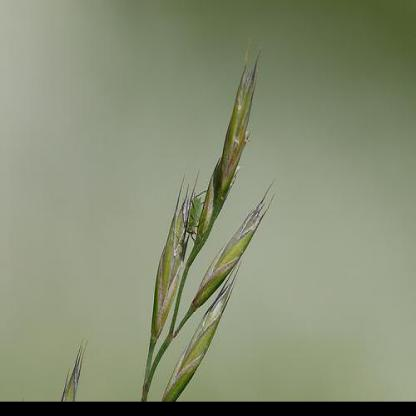aphid: (176, 187, 205, 236)
